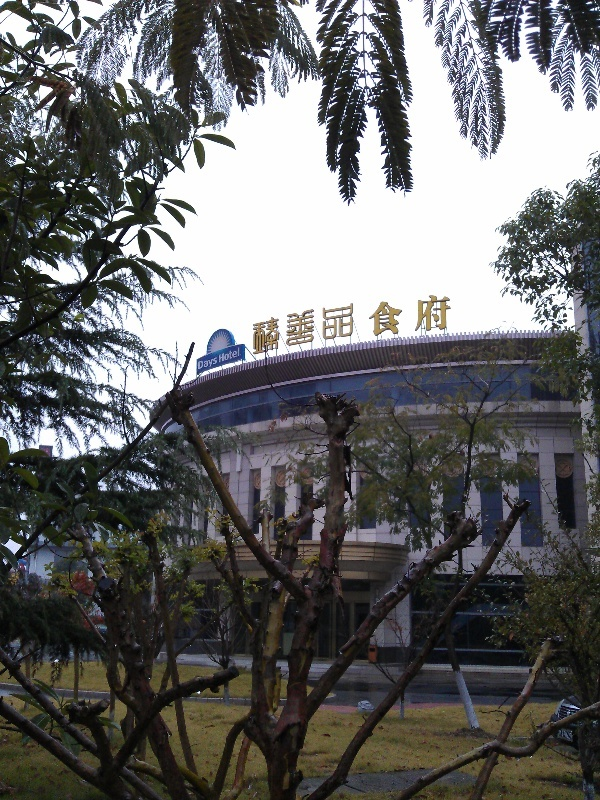text: (257, 300, 272, 356), (273, 300, 288, 356), (289, 300, 304, 356), (305, 300, 320, 356), (321, 300, 336, 356), (337, 300, 352, 356), (369, 292, 384, 338), (385, 292, 400, 338), (401, 292, 416, 338), (417, 292, 432, 338), (433, 292, 448, 338), (251, 300, 256, 356), (225, 347, 241, 364), (449, 292, 453, 338), (198, 355, 208, 372), (209, 355, 218, 372), (561, 730, 573, 741), (353, 300, 355, 356), (218, 347, 224, 364)
